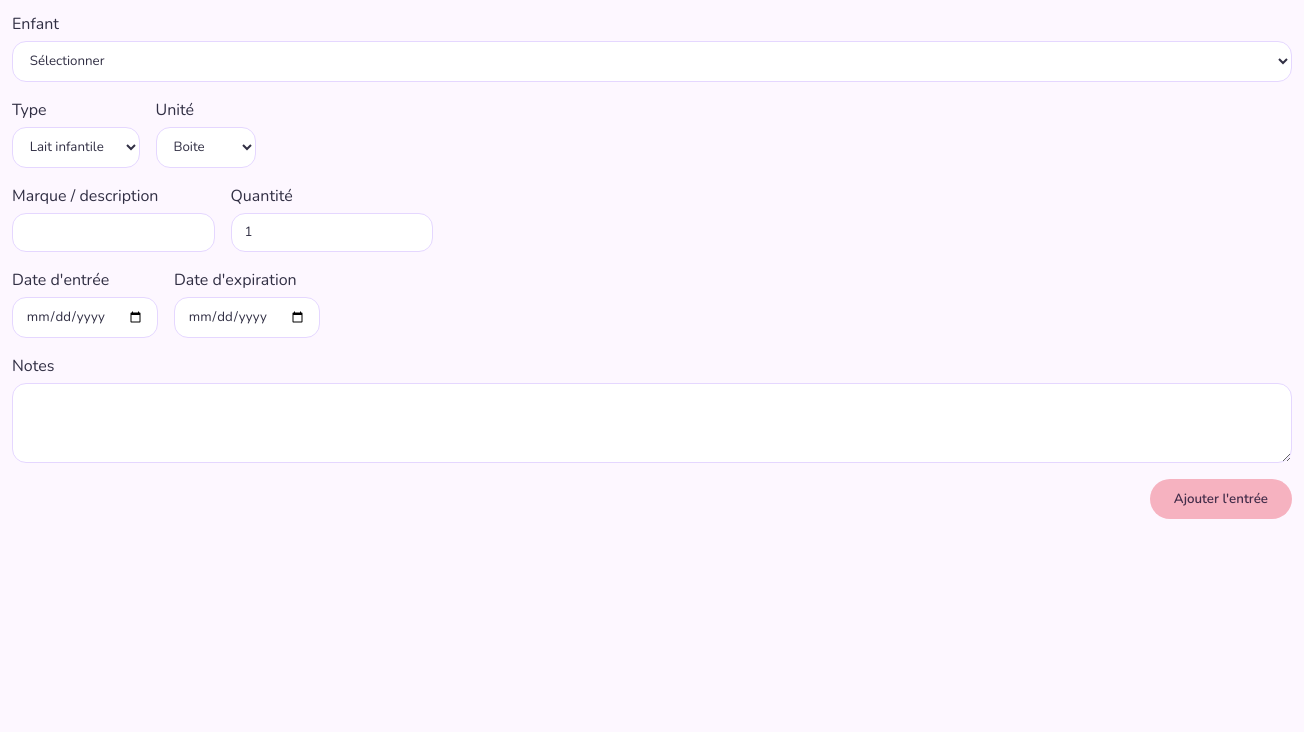
Test: InventoryForm › shows validation errors when submitting empty form
Click the button "Ajouter l'entrée" at (1221, 499), box [1150, 479, 1292, 519]
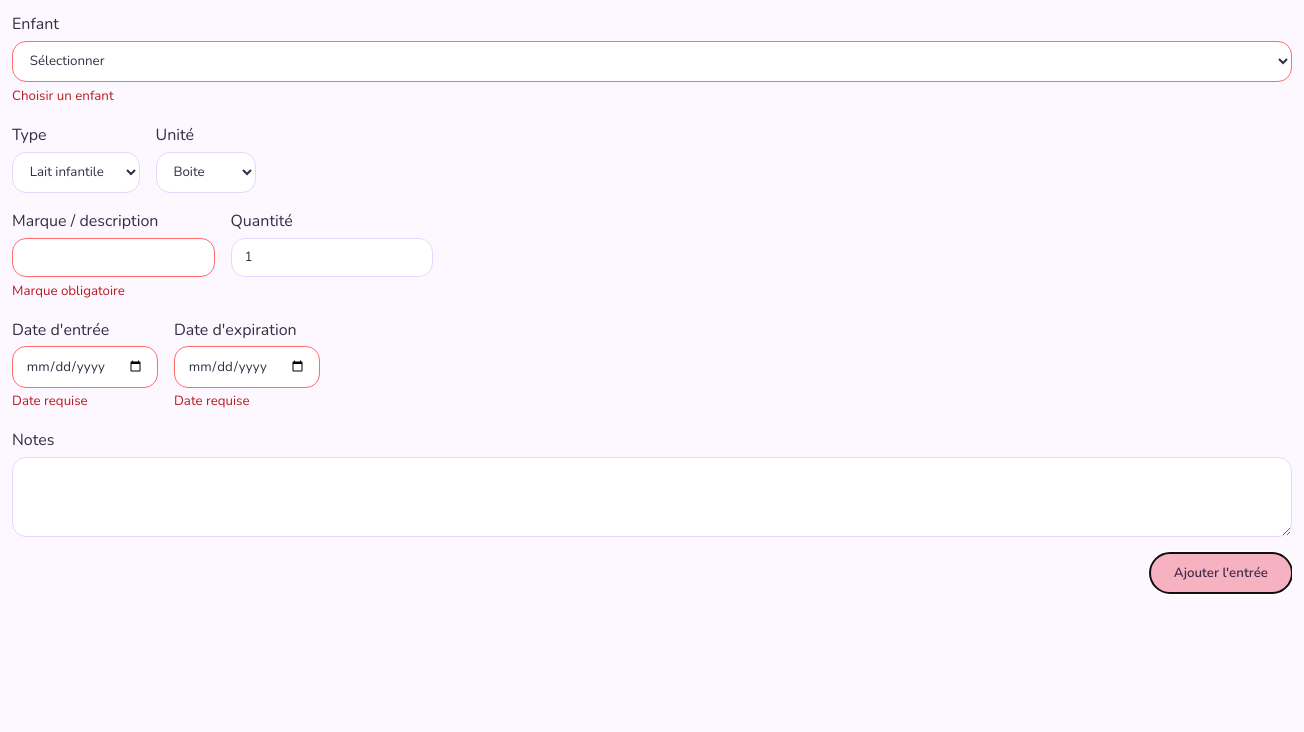
Result: the text "Choisir un enfant" is shown at [12, 87, 114, 105]
Result: the text "Marque obligatoire" is shown at [12, 282, 125, 300]
Result: the text "Date requise" is shown 2 times at [12, 392, 88, 410]; [174, 392, 250, 410]
